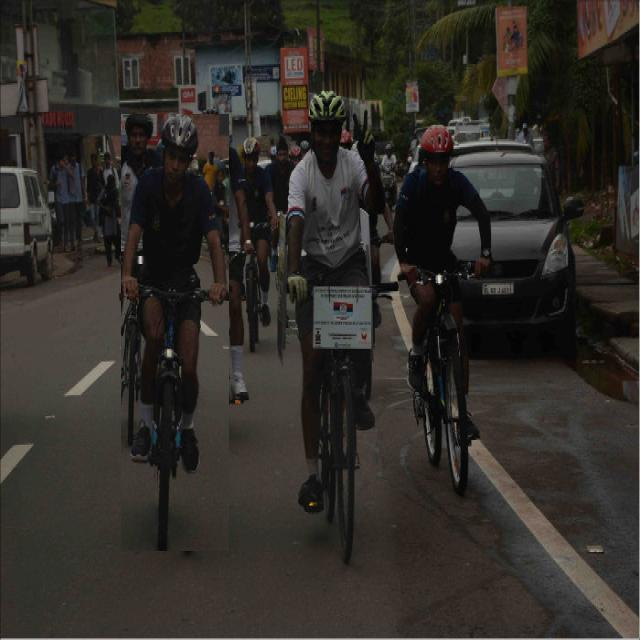bicycle: (121, 114, 229, 551), (288, 92, 385, 561), (394, 125, 491, 494), (190, 109, 252, 443), (242, 138, 278, 351), (269, 136, 295, 362)
car: (455, 149, 584, 360), (0, 166, 52, 281)
